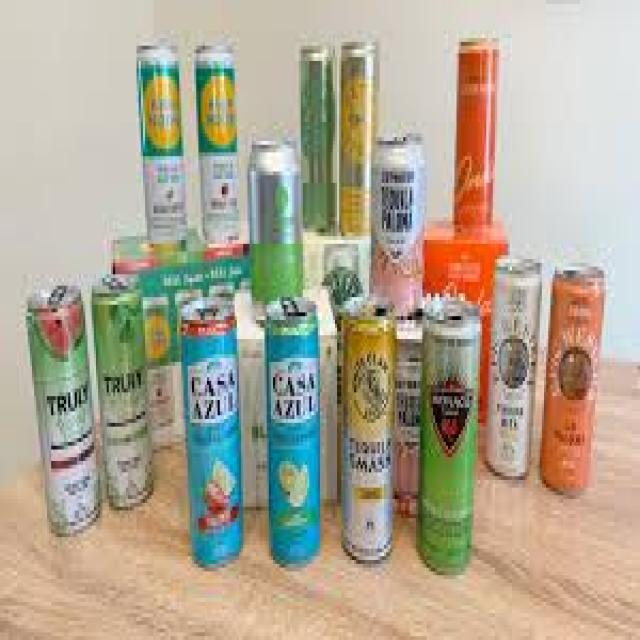Cans: (175, 290, 250, 575), (412, 293, 482, 583), (260, 286, 326, 575), (337, 286, 401, 571)
